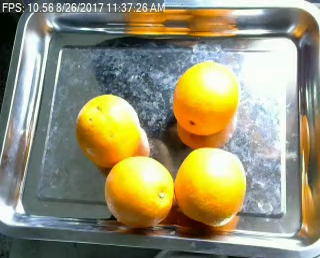Orange: (176, 146, 248, 226), (104, 155, 174, 228), (172, 59, 239, 135), (76, 93, 140, 167)
